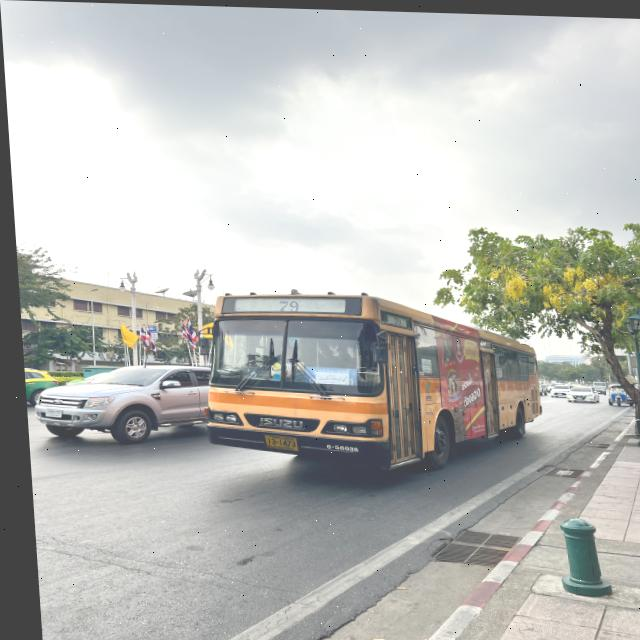BMTA-bus: (194, 289, 541, 477)
Bus-Line-Number: (269, 297, 306, 313), (386, 313, 402, 325)
Destination-Sign-Normal: (301, 363, 352, 385)
